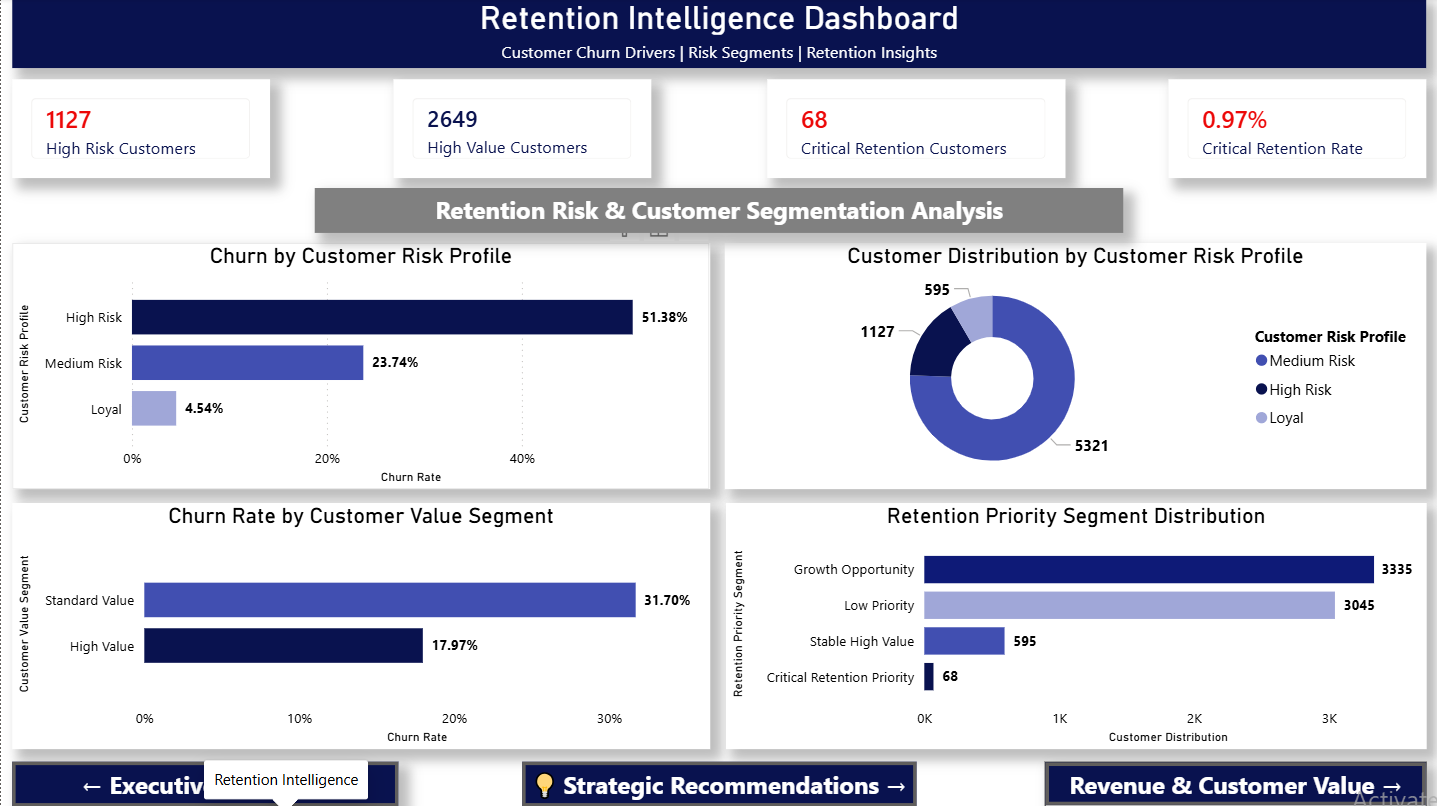

Layout of this report page (visuals, bound fields, positions):
{"tool":"powerbi","page":{"name":"Retention Intelligence","canvas":[1280,720],"ordinal":1},"visuals":[{"type":"textbox","title":"Retention Intelligence Dashboard","box":[9.7,0,1259.5,62.7],"z":0},{"type":"cardVisual","fields":{"Data":["Measure.High Risk Customers"]},"box":[9.7,72.4,229.2,88.1],"z":1000},{"type":"cardVisual","fields":{"Data":["Measure.High Value Customers"]},"box":[349.9,72.4,229.2,88.1],"z":2000},{"type":"cardVisual","fields":{"Data":["Measure.Critical Retention Customers"]},"box":[682.8,72.4,265.4,88.1],"z":3000},{"type":"cardVisual","fields":{"Data":["Measure.Critical Retention Rate"]},"box":[1040,72.4,229.2,88.1],"z":4000},{"type":"clusteredBarChart","title":"Churn by Customer Risk Profile","fields":{"Category":["final_telco_customer_analytics.Customer_Risk_Profile"],"Y":["Measure.Churn Rate"]},"box":[9.7,218.4,621.3,219.6],"z":5000},{"type":"donutChart","title":"Customer Distribution by Customer Risk Profile","fields":{"Category":["final_telco_customer_analytics.Customer_Risk_Profile"],"Y":["Measure.Total Customers"]},"box":[644.2,218.4,624.9,219.6],"z":6000},{"type":"clusteredBarChart","fields":{"Category":["final_telco_customer_analytics.Customer_Value_Segment"],"Y":["Measure.Churn Rate"]},"box":[9.7,450,621.3,219.6],"z":7000},{"type":"clusteredBarChart","title":"Retention Priority Segment Distribution","fields":{"Category":["final_telco_customer_analytics.Retention_Priority_Segment"],"Y":["Measure.Total Customers"]},"box":[645.4,450,623.7,219.6],"z":8000},{"type":"actionButton","box":[9.7,680.4,343.8,39.8],"z":9000},{"type":"actionButton","box":[929,680.4,340.2,39.8],"z":10000},{"type":"textbox","title":"Retention Risk & Customer Segmentation Analysis","box":[279.9,168.9,720.2,39.8],"z":11000},{"type":"actionButton","box":[464.5,680.4,351.1,39.8],"z":12000}]}

Visuals, with their boxes on the page's 1280x720 design canvas (x1, y1, x2, y2). These are canvas units, not pixel positions in the 1437x806 screenshot, which may show the page scaled, cropped or inside an application window:
"Retention Intelligence Dashboard" textbox: [10, 0, 1269, 63]
cardVisual - Measure.High Risk Customers: [10, 72, 239, 160]
cardVisual - Measure.High Value Customers: [350, 72, 579, 160]
cardVisual - Measure.Critical Retention Customers: [683, 72, 948, 160]
cardVisual - Measure.Critical Retention Rate: [1040, 72, 1269, 160]
"Churn by Customer Risk Profile" clusteredBarChart: [10, 218, 631, 438]
"Customer Distribution by Customer Risk Profile" donutChart: [644, 218, 1269, 438]
clusteredBarChart - final_telco_customer_analytics.Customer_Value_Segment x Measure.Churn Rate: [10, 450, 631, 670]
"Retention Priority Segment Distribution" clusteredBarChart: [645, 450, 1269, 670]
actionButton: [10, 680, 354, 720]
actionButton: [929, 680, 1269, 720]
"Retention Risk & Customer Segmentation Analysis" textbox: [280, 169, 1000, 209]
actionButton: [464, 680, 816, 720]
